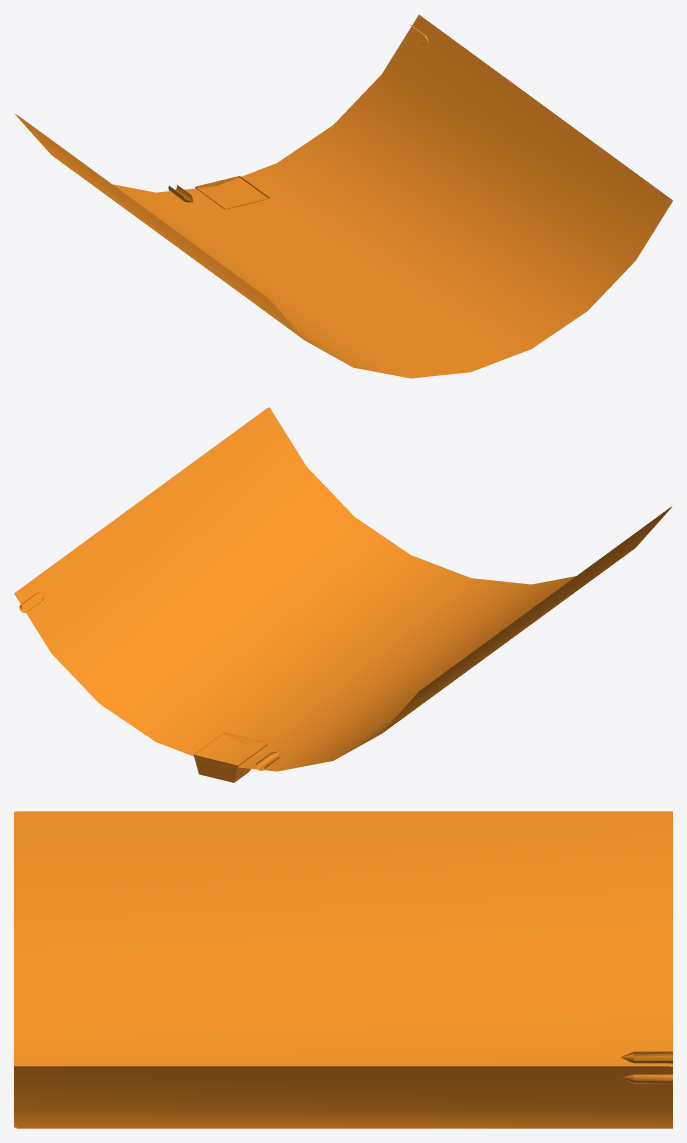
The model's file is r7skirt3p3.obj.
3 renders of one model, top to bottom at view 1: azimuth 30°, elevation 25°; view 2: azimuth 150°, elevation 25°; view 3: azimuth 270°, elevation 25°, orthographic. The views are drawn at different scales.
Parts seen in each view (by area): view 1: group0; view 2: group0; view 3: group0.
Boxes of the visible parts, <box> form: group0: <box>15,15,672,378</box>; group0: <box>14,407,671,782</box>; group0: <box>14,811,672,1128</box>.
Bounding box in the file's own units: 2.3 × 0.7394 × 2.51.
